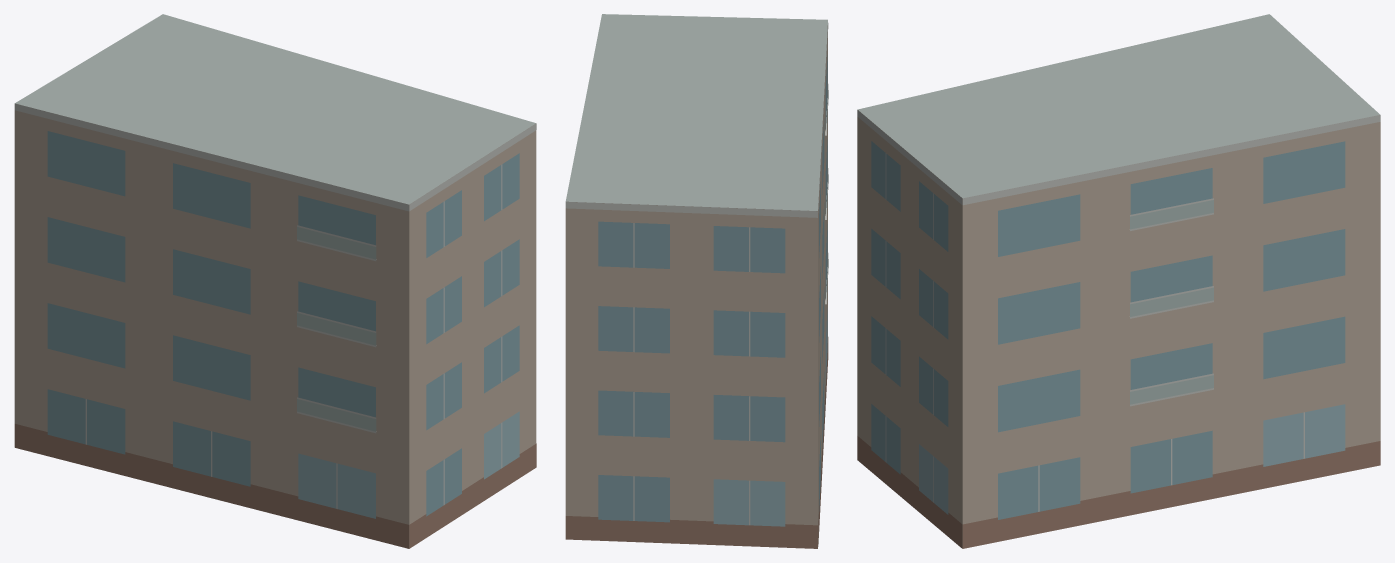
The model's file is survey-upis-32853967.glb.
The picture shows the model from 3 angles, left to right: view 1: azimuth 30°, elevation 25°; view 2: azimuth 150°, elevation 25°; view 3: azimuth 270°, elevation 25°; orthographic projection. The views are drawn at different scales.
Parts seen in each view (by area): view 1: survey-upis-32853967.tmp; view 2: survey-upis-32853967.tmp; view 3: survey-upis-32853967.tmp.
Part boxes in pixels (<box>): survey-upis-32853967.tmp: <box>14,14,536,548</box>; survey-upis-32853967.tmp: <box>565,14,828,548</box>; survey-upis-32853967.tmp: <box>857,14,1380,548</box>.
Size of the model in its own units: 13.77 by 12.2 by 16.51.
